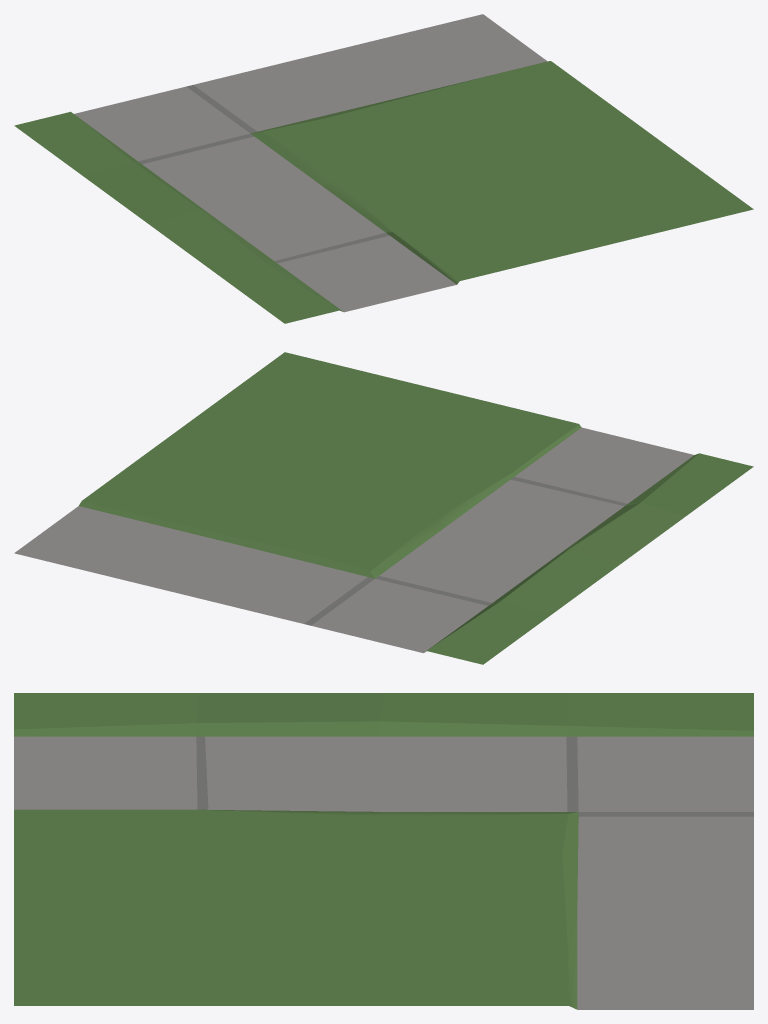
File: SM_Env_PathRight_01.fbx
3 views of the same model, one above another, from view 1: azimuth 30°, elevation 25°; view 2: azimuth 150°, elevation 25°; view 3: azimuth 270°, elevation 25° (orthographic). The views are drawn at different scales.
Visible parts, largest first — view 1: SM_Env_PathRight_01; view 2: SM_Env_PathRight_01; view 3: SM_Env_PathRight_01.
Part boxes in pixels (x1=…): SM_Env_PathRight_01: x1=14, y1=14, x2=753, y2=323; SM_Env_PathRight_01: x1=14, y1=352, x2=753, y2=664; SM_Env_PathRight_01: x1=14, y1=693, x2=753, y2=1009.
Bounding box in the file's own units: 500 × 6.84 × 500.
